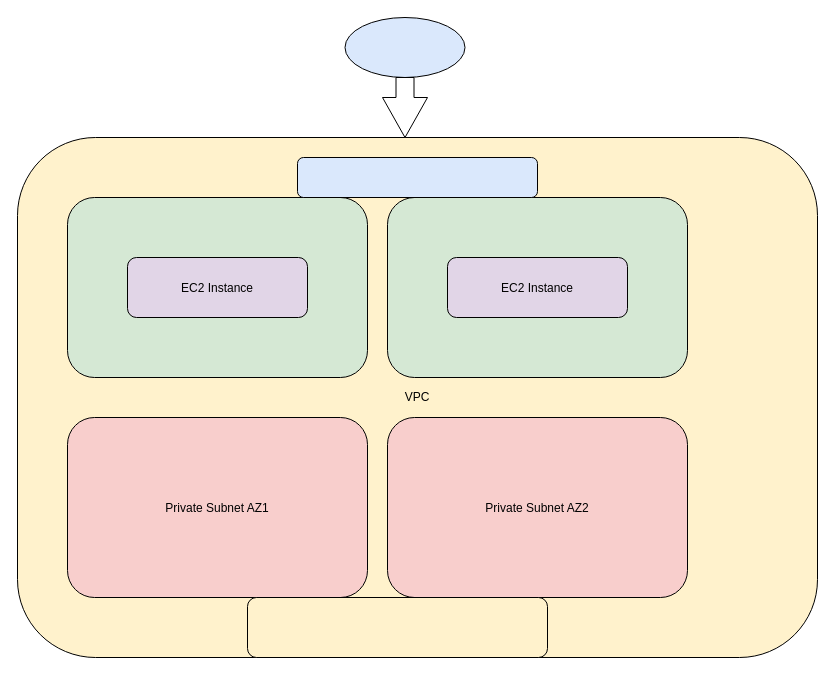
The diagram is 835 pixels wide and 675 high, and some of its shapes have lost their labels. Here are the shapes that lost their labels. From the top down, the centre of each, then its label:
At [404,47]: "Internet".
At [417,177]: "Application Load Balancer".
At [397,627]: "RDS MySQL (Multi-AZ)".
